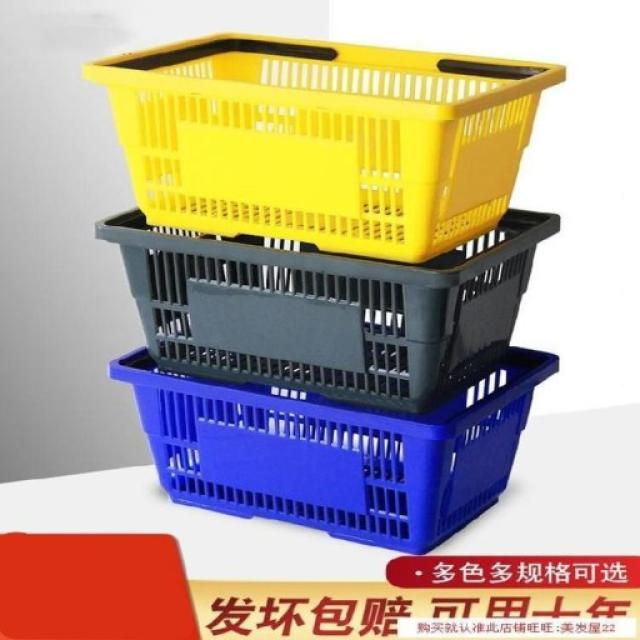basket: (68, 19, 568, 276), (95, 210, 561, 413), (109, 346, 560, 555)
